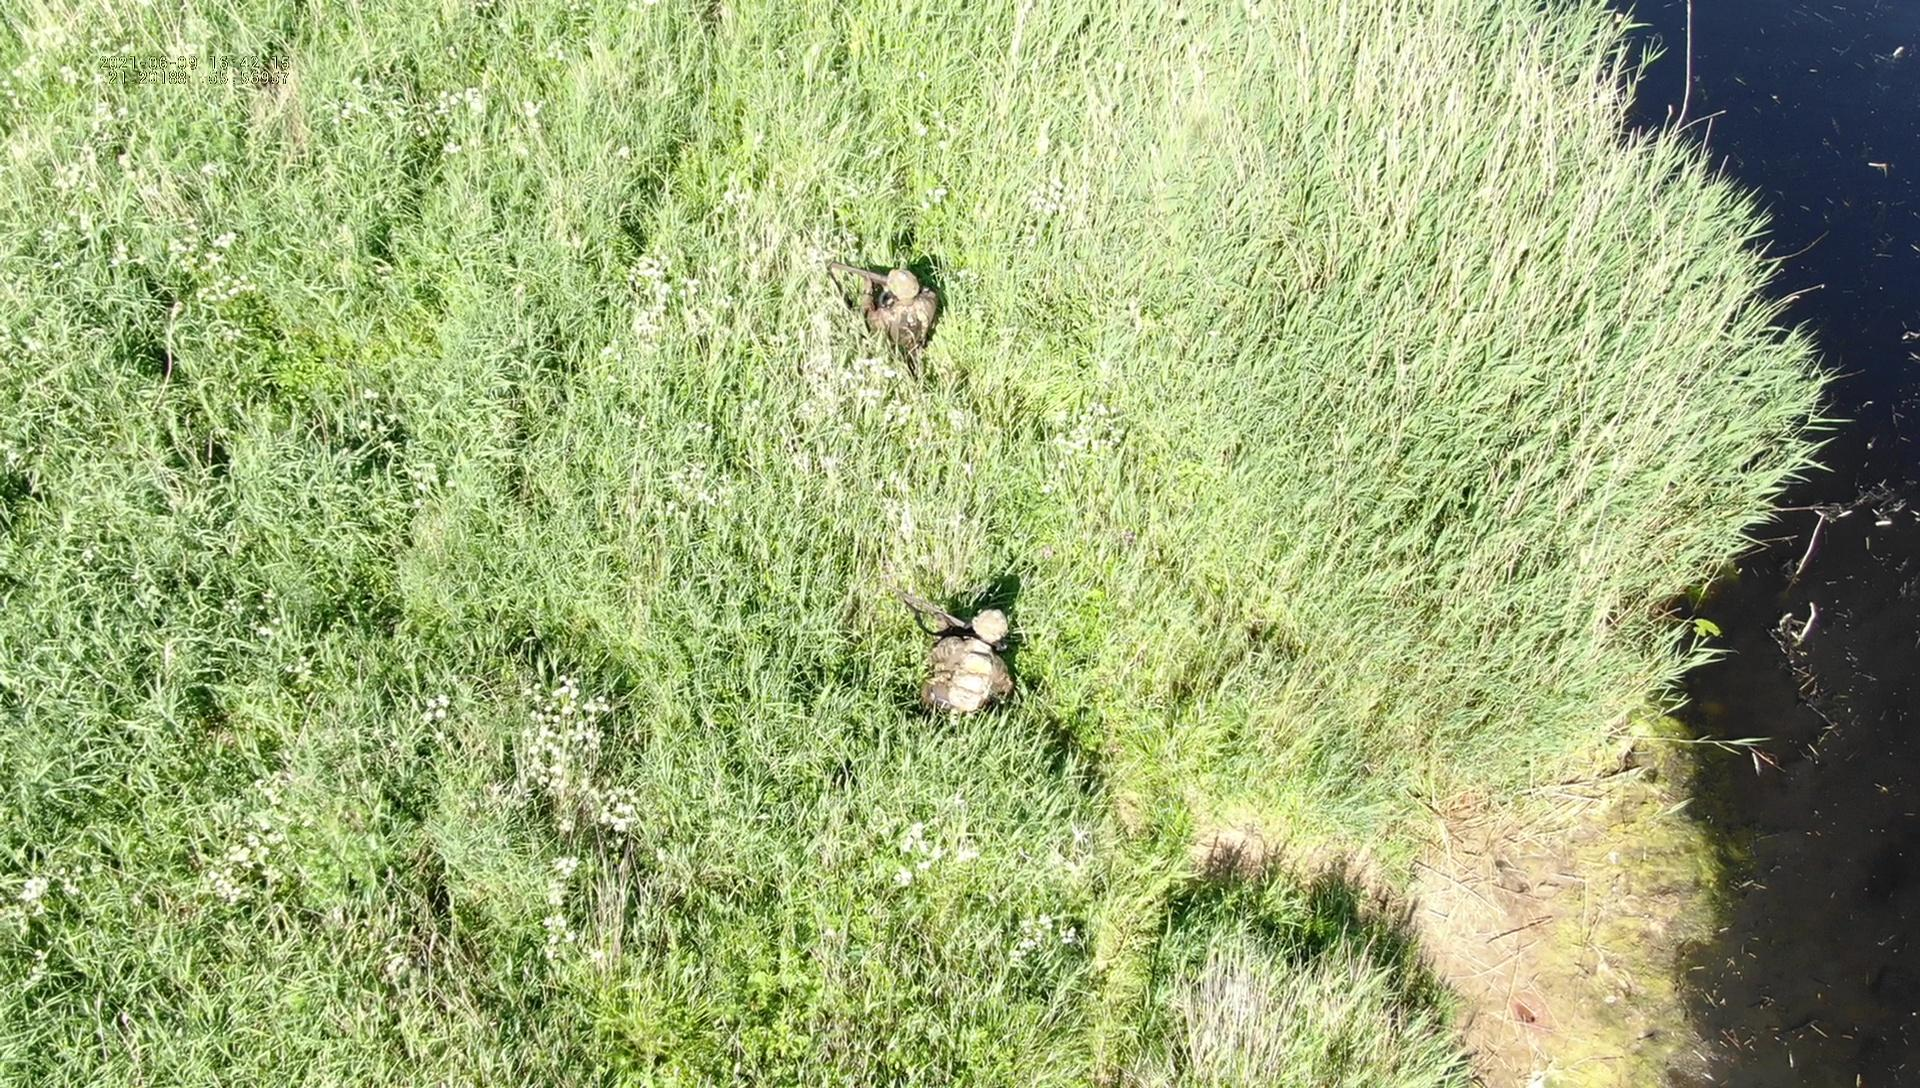Soldier: (889, 587, 1015, 717), (829, 260, 940, 348)
